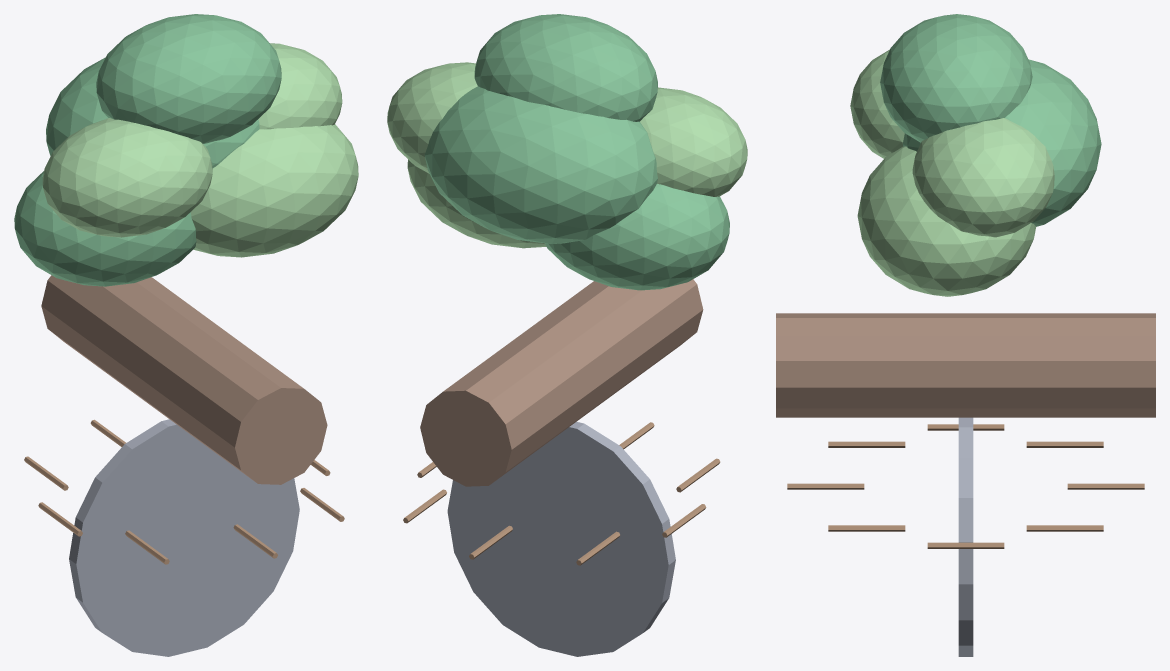
File: hero_world_tree.glb
3 views of the same model, side by side, from view 1: azimuth 30°, elevation 25°; view 2: azimuth 150°, elevation 25°; view 3: azimuth 270°, elevation 25° (orthographic).
Parts seen in each view (by area): view 1: world; view 2: world; view 3: world.
Part boxes in pixels (x1=…): world: x1=14, y1=14, x2=358, y2=656; world: x1=387, y1=14, x2=747, y2=656; world: x1=776, y1=14, x2=1155, y2=656.
Bounding box in the file's own units: 4.03 × 7.53 × 4.2.
